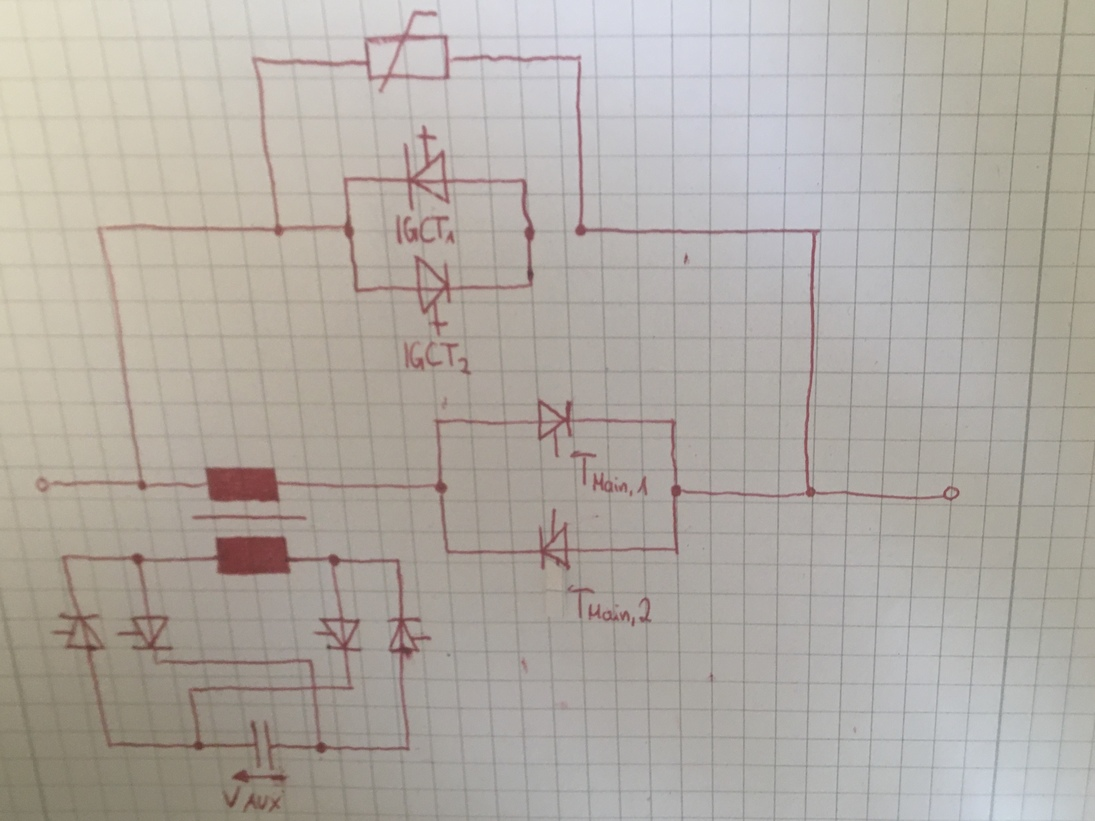capacitor.unpolarized: (247, 716, 282, 772)
crossover: (307, 681, 322, 694)
junction: (341, 219, 358, 240), (669, 483, 687, 501), (802, 484, 818, 500), (94, 222, 110, 238), (326, 552, 342, 568), (434, 479, 450, 495), (572, 223, 588, 238), (129, 552, 146, 566), (313, 741, 330, 755), (517, 174, 531, 191), (272, 223, 287, 238), (135, 477, 148, 493), (666, 414, 680, 428), (808, 225, 823, 238), (572, 51, 586, 64), (191, 740, 206, 752), (401, 741, 414, 754), (432, 415, 445, 428), (524, 277, 536, 291), (249, 53, 261, 66), (351, 284, 364, 296), (58, 552, 71, 564), (104, 738, 117, 750), (442, 545, 455, 557), (670, 544, 682, 556), (392, 555, 404, 567), (304, 655, 317, 666), (344, 681, 356, 692), (151, 657, 164, 667), (341, 174, 351, 186), (185, 685, 197, 695)
terminal: (33, 474, 54, 495), (940, 484, 962, 504)
text: (568, 447, 651, 499), (565, 583, 655, 629), (401, 338, 475, 378), (393, 212, 457, 247), (219, 784, 283, 816)
thyristor: (401, 128, 452, 211), (412, 253, 453, 331), (56, 611, 108, 652), (126, 614, 177, 653), (536, 518, 572, 572), (536, 396, 574, 445), (318, 615, 364, 654), (385, 616, 424, 655)
transformer: (189, 465, 309, 577)
varistor: (361, 8, 452, 93)
